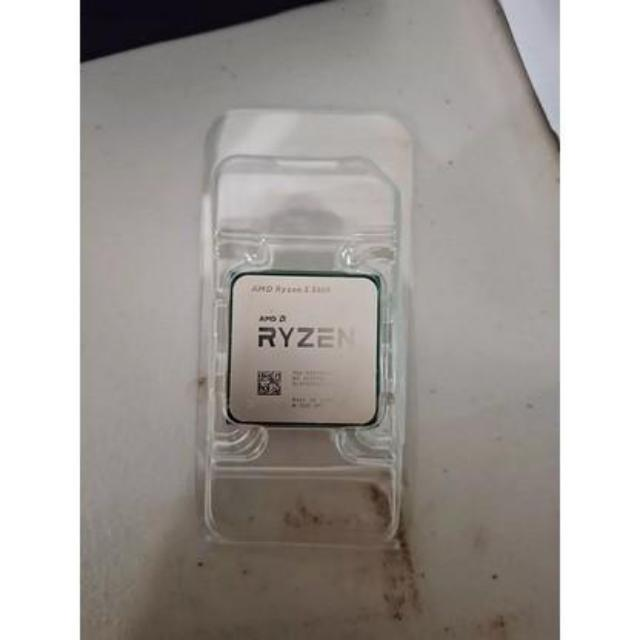CPU: (231, 277, 383, 425)
